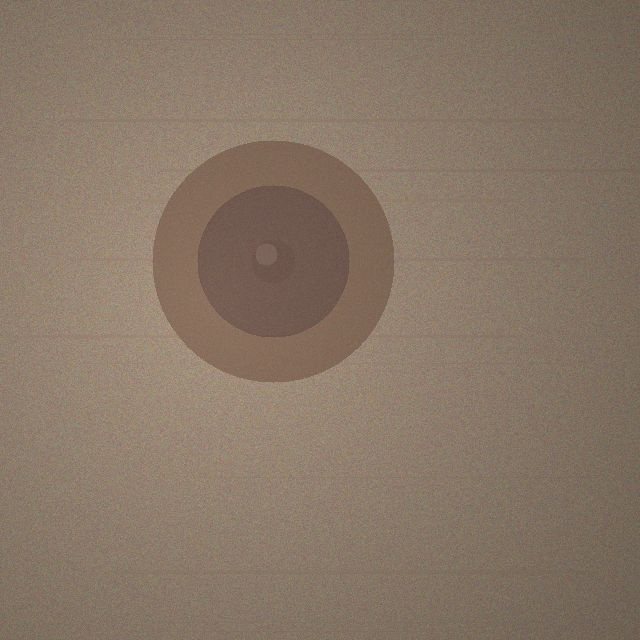good: (152, 140, 394, 382)
